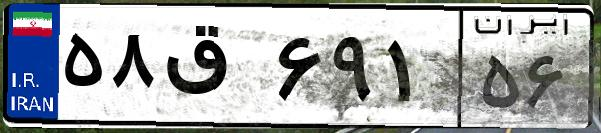1: (385, 28, 445, 110)
5: (57, 26, 110, 100), (475, 38, 525, 113)
6: (270, 28, 330, 110), (525, 38, 570, 115)
8: (110, 28, 158, 98)
9: (330, 28, 385, 110)
ق: (158, 20, 270, 120)
